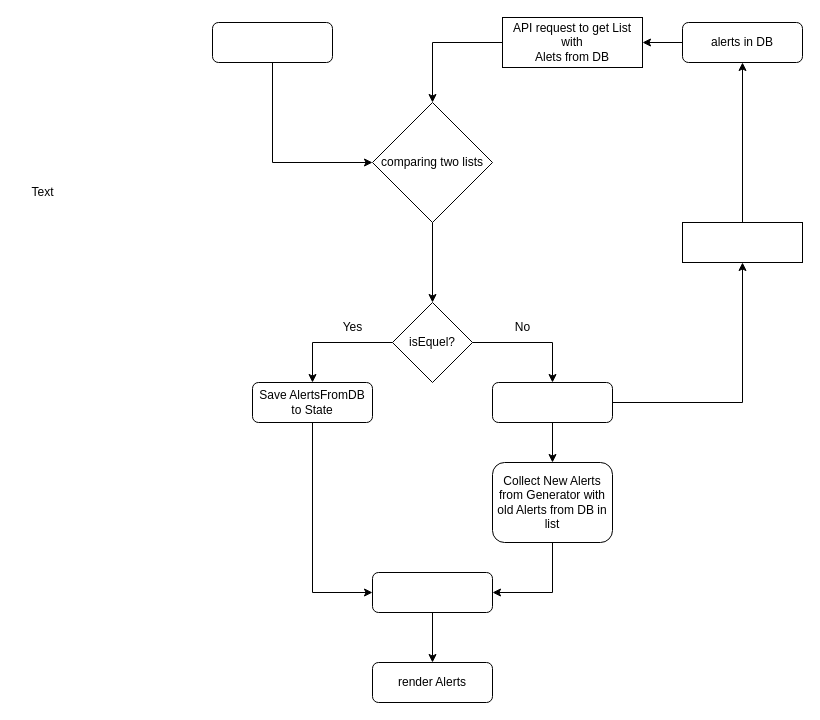
This 820x720 diagram has some shape labels left out. The centre of each missing label's shape, as x and y in pixels:
api request to push new alerts to DB: point (742, 242)
Assign all Alerts to App State: point (432, 592)
List with Alerts from Generator: point (272, 42)
newAlerts: point (552, 402)
